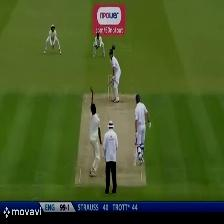batsman: (105, 45, 121, 106)
